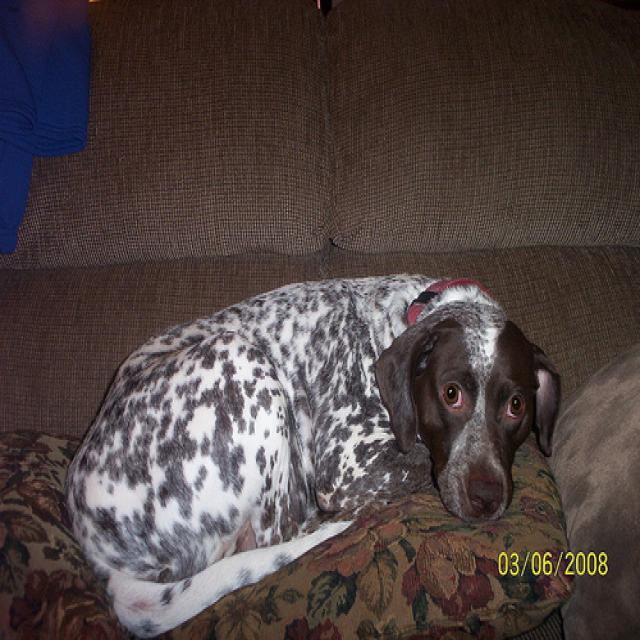dog-german_shorthaired: (58, 266, 567, 637)
